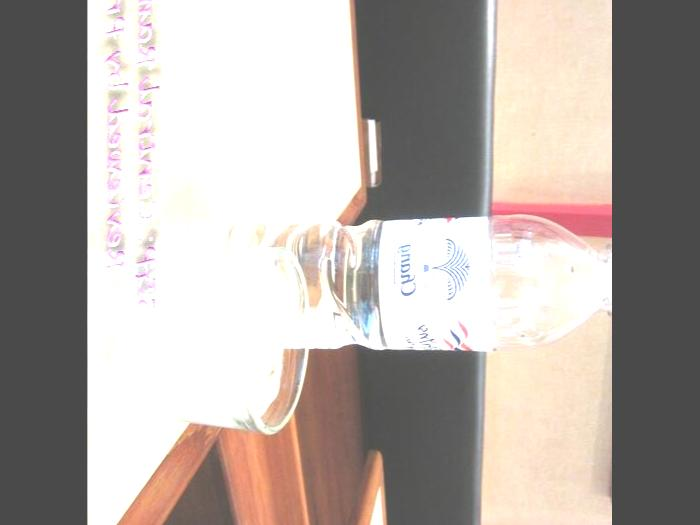bottle: (137, 212, 612, 366)
